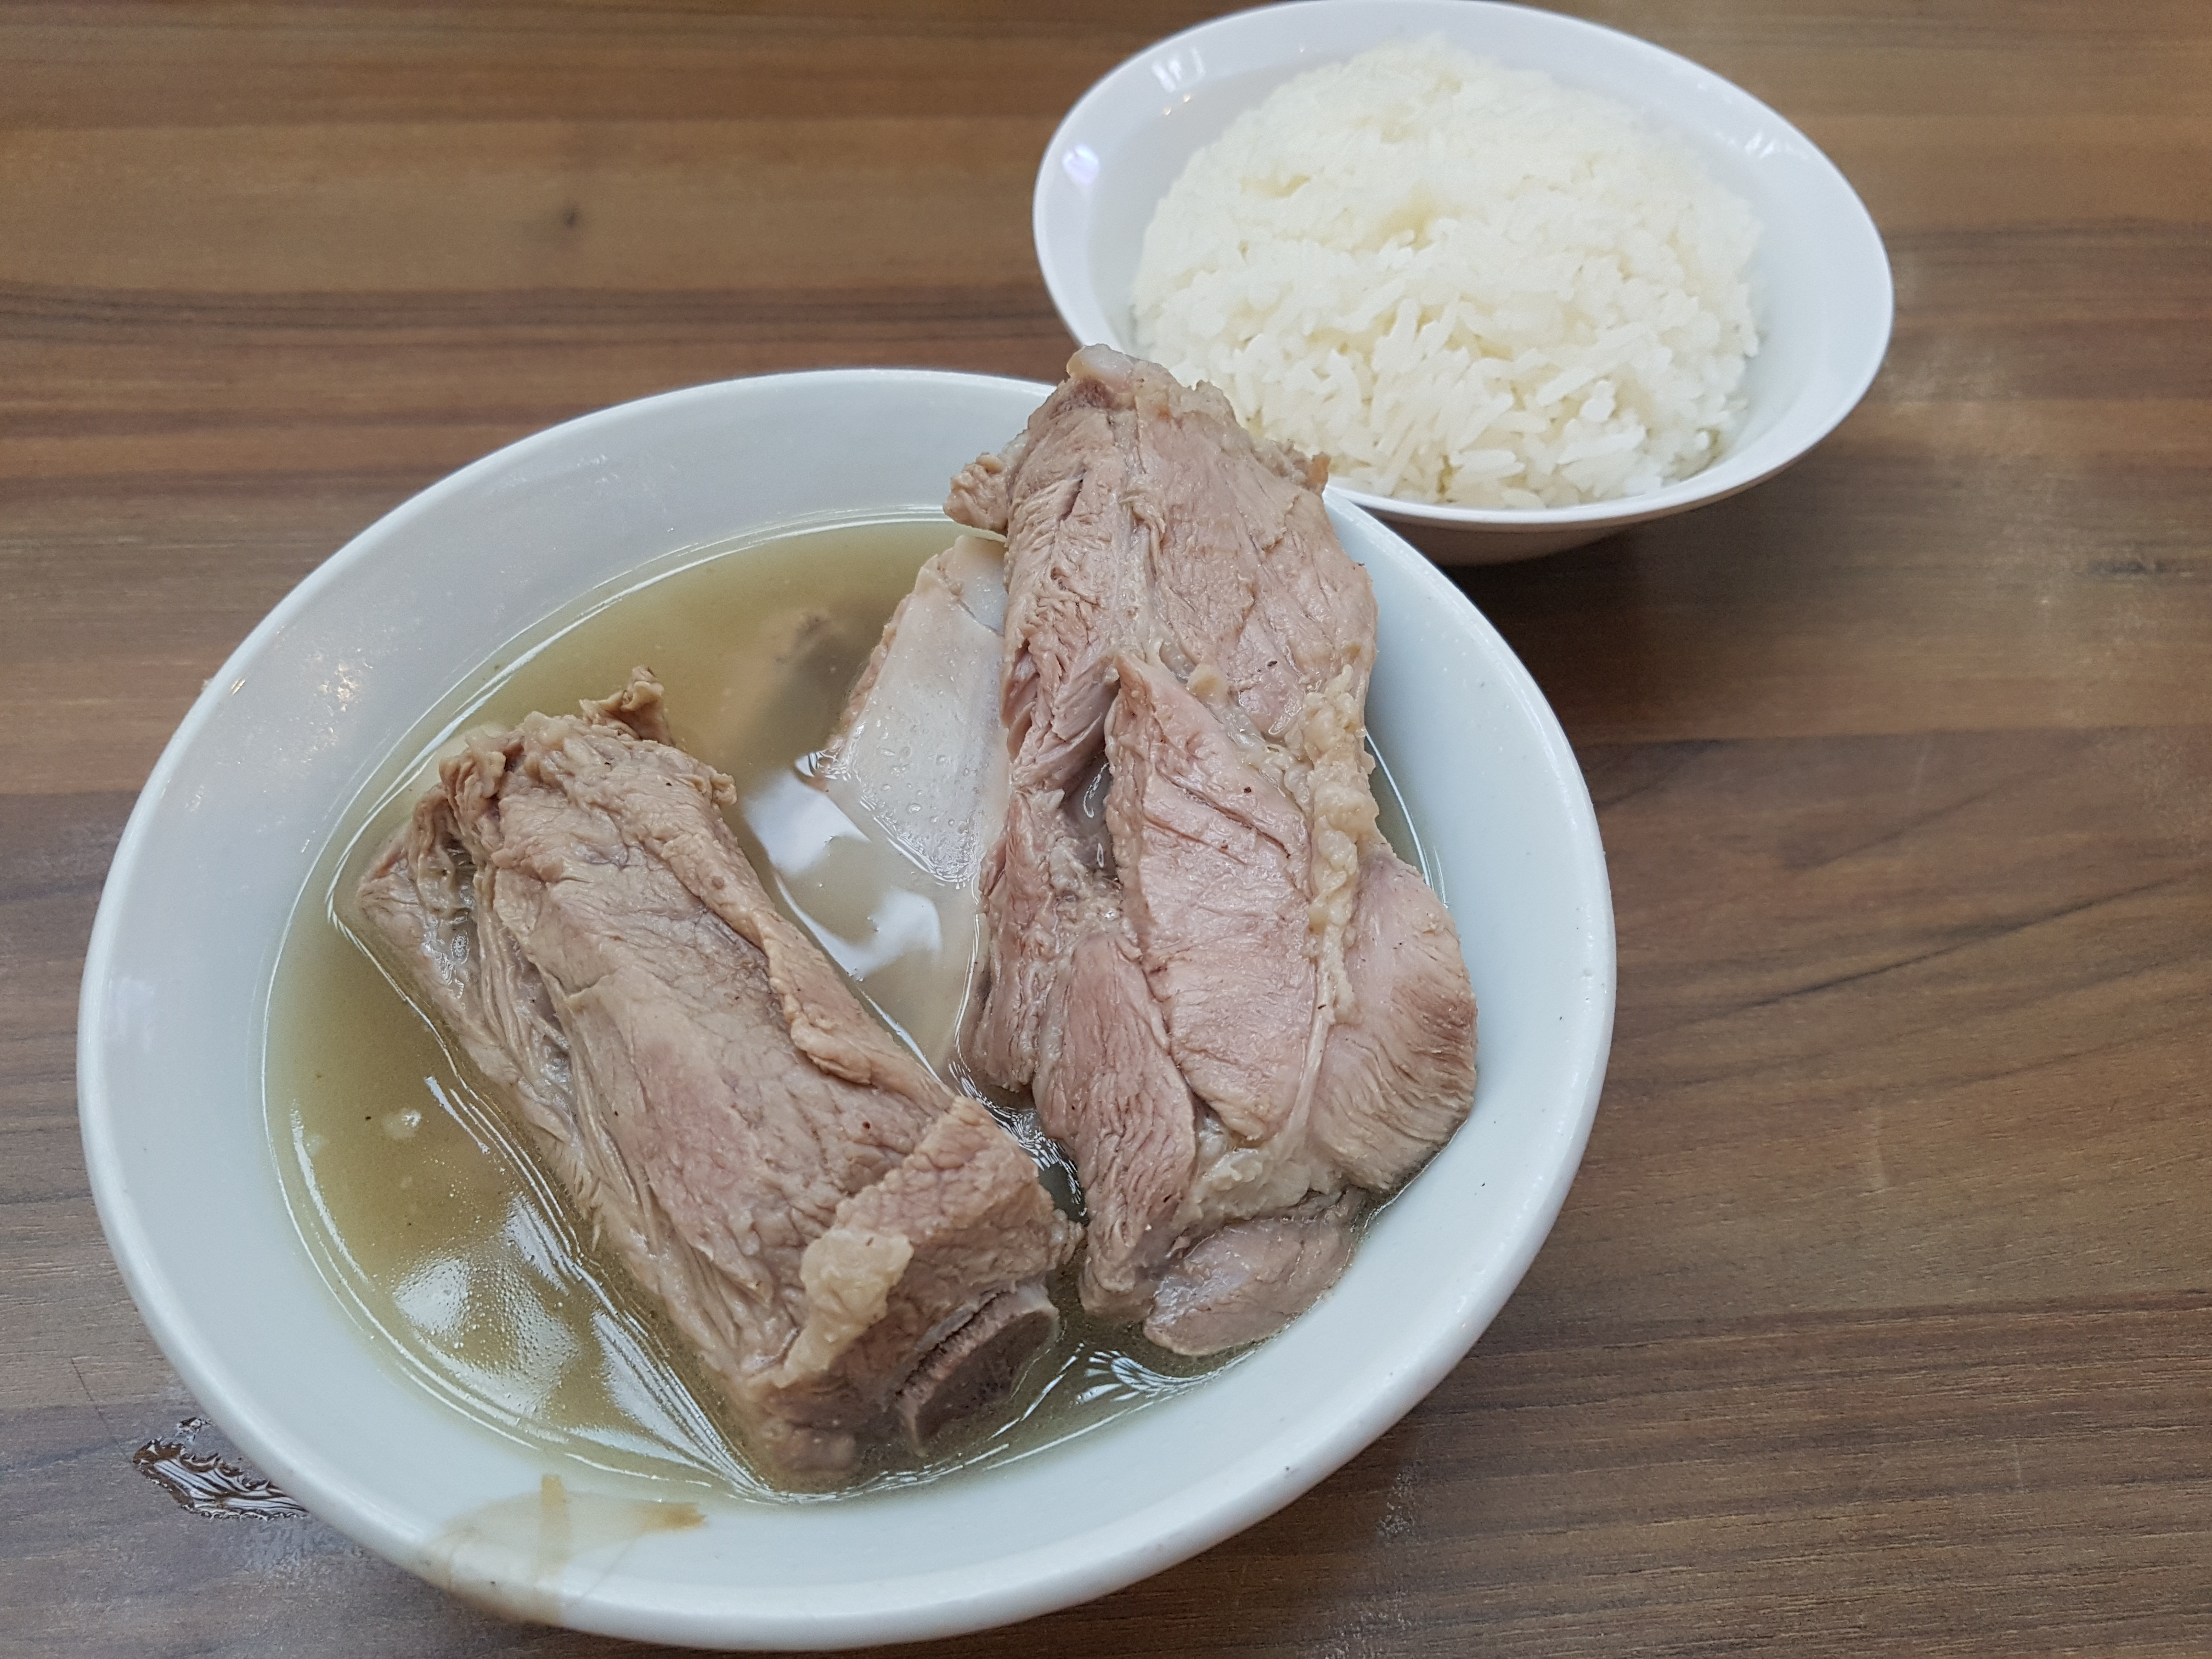plain rice: (1167, 66, 1770, 444)
